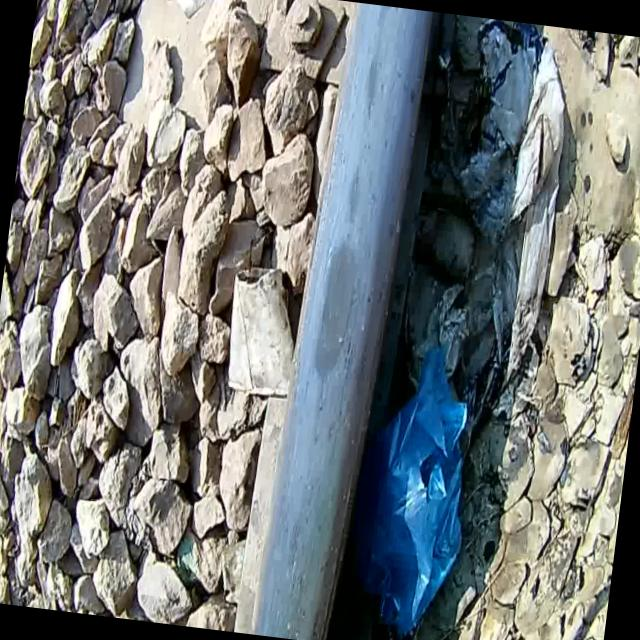Squats: (233, 0, 456, 640)
